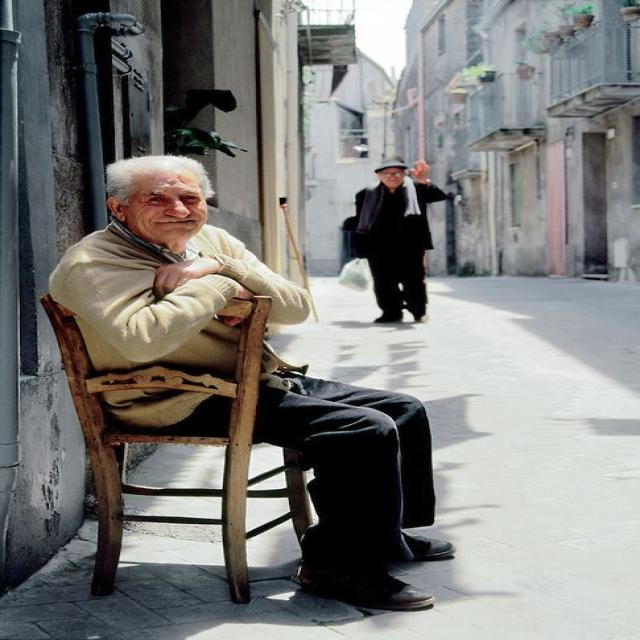idoso sentado: (47, 134, 361, 638)
